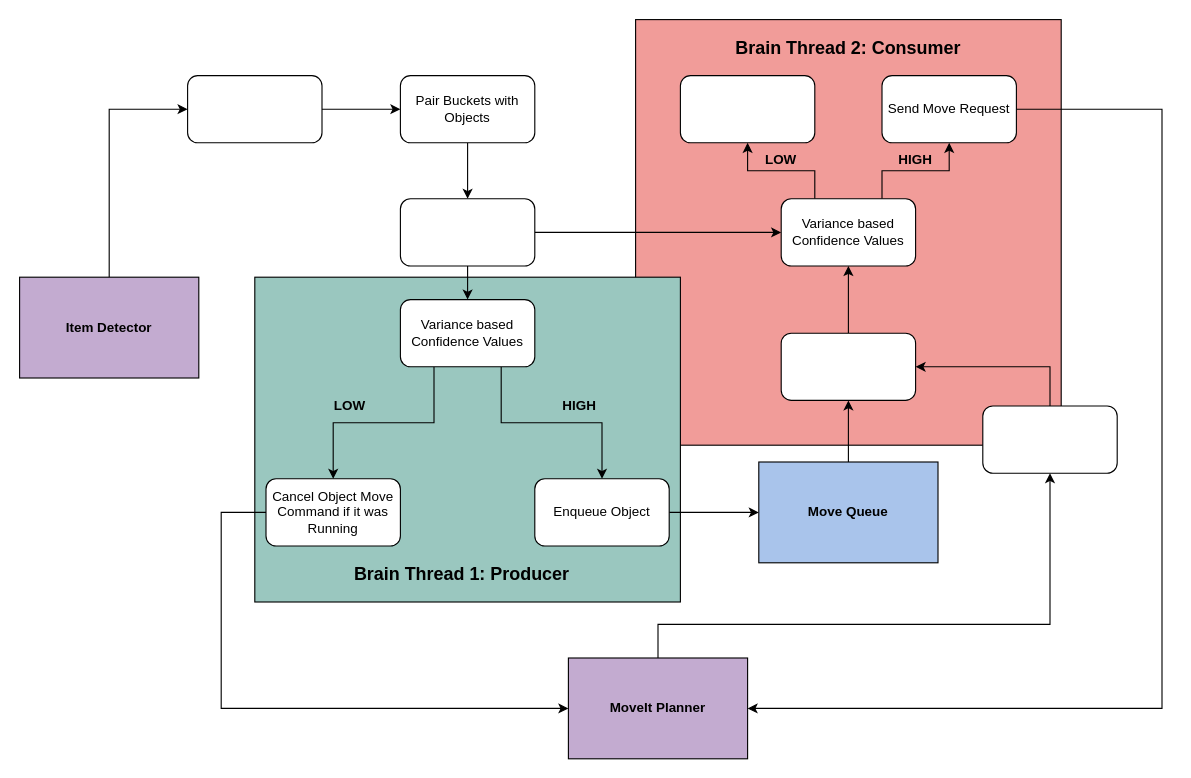
This 1191x778 diagram has some shape labels left out. The centre of each missing label's shape, as x and y in pixels:
Dequeue Object: the point at 848,366
Detected Object Poses: the point at 254,108
Discard: the point at 747,108
Move Finished / Canceled / Failed: the point at 1049,439
Moving Average Filter Objects & Buckets: the point at 467,232
